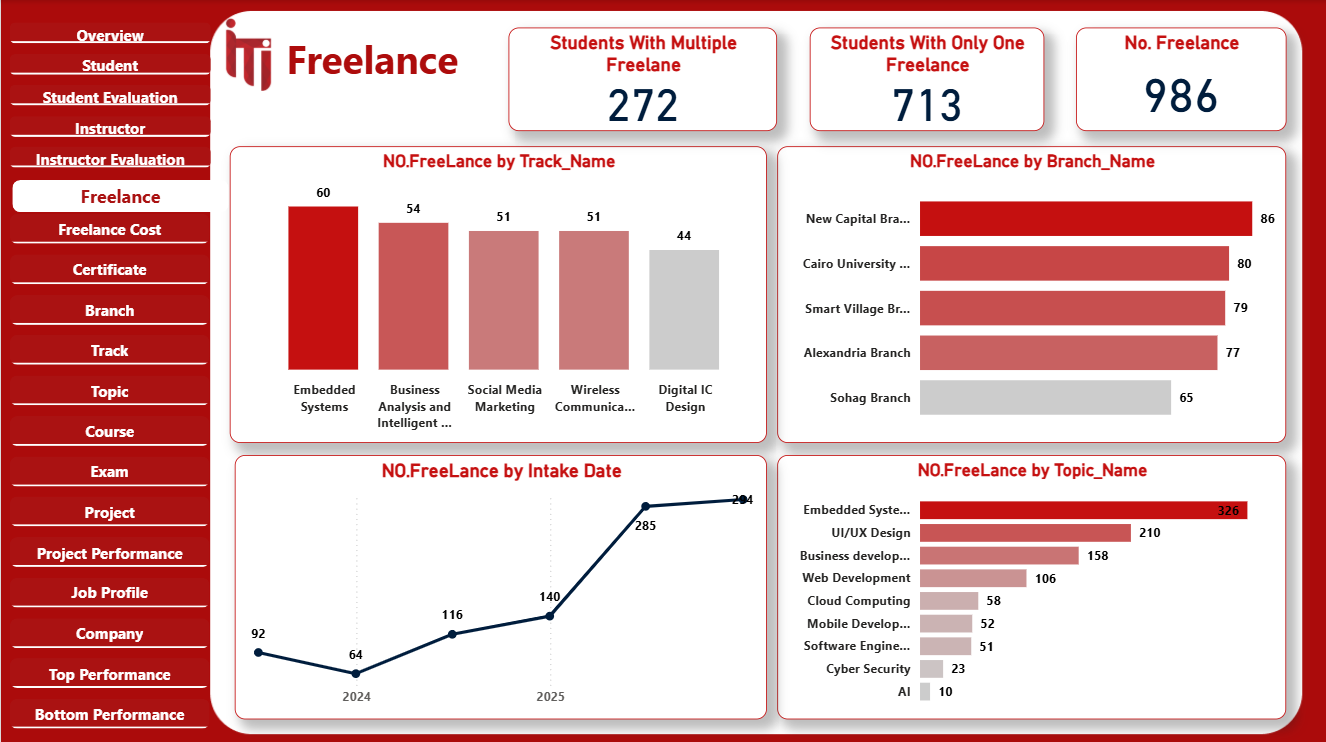

What the dashboard file says about the page in this screenshot:
{"tool":"powerbi","page":{"name":"Freelance","canvas":[1280,720],"ordinal":5},"visuals":[{"type":"clusteredBarChart","fields":{"Category":["vw_Dim_Branch.Branch_Name"],"Y":["Measures_.NO.FreeLance"]},"box":[749.2,141.3,491.3,286.8],"z":0},{"type":"clusteredColumnChart","fields":{"Y":["Measures_.NO.FreeLance"],"Category":["vw_Dim_Track.Track_Name"]},"box":[220.9,141.3,518.7,286.8],"z":1000},{"type":"barChart","fields":{"Category":["vw_Dim_Topic.Topic_Name"],"Y":["Measures_.NO.FreeLance"]},"box":[749.2,439.1,491.3,255.2],"z":2000},{"type":"card","title":"No. Freelance","fields":{"Values":["Measures_.NO.FreeLance"]},"box":[1037.4,26.1,203.1,100.2],"z":3000},{"type":"card","title":"Students With Multiple Freelane","fields":{"Values":["Measures_.Students with Multiple freelance"]},"box":[489.9,26.1,259.3,100.2],"z":4000},{"type":"card","title":"Students With Only One Freelance","fields":{"Values":["Measures_.Students with Only one freelance"]},"box":[780.1,26.1,226.4,100.2],"z":5000},{"type":"lineChart","title":"NO.FreeLance by Intake Date","fields":{"Y":["Measures_.NO.FreeLance"],"Category":["Fact_Student_Performance.intake_end_date.Variation.Date Hierarchy.Year"]},"box":[225.2,438.8,513.8,255.5],"z":6000},{"type":"textbox","box":[270.3,26.1,249.7,67.2],"z":7000},{"type":"pageNavigator","box":[8.2,22,194.9,141.3],"z":8000},{"type":"pageNavigator","box":[11,174.3,209.9,31.6],"z":9000},{"type":"pageNavigator","box":[8.2,205.8,193.5,499.5],"z":10000},{"type":"image","box":[196.2,4.1,86.4,89.2],"z":11000}]}

Visuals, with their boxes on the page's 1280x720 design canvas (x1, y1, x2, y2). These are canvas units, not pixel positions in the 1326x742 screenshot, which may show the page scaled, cropped or inside an application window:
clusteredBarChart - vw_Dim_Branch.Branch_Name x Measures_.NO.FreeLance: [749,141,1240,428]
clusteredColumnChart - Measures_.NO.FreeLance x vw_Dim_Track.Track_Name: [221,141,740,428]
barChart - vw_Dim_Topic.Topic_Name x Measures_.NO.FreeLance: [749,439,1240,694]
"No. Freelance" card: [1037,26,1240,126]
"Students With Multiple Freelane" card: [490,26,749,126]
"Students With Only One Freelance" card: [780,26,1006,126]
"NO.FreeLance by Intake Date" lineChart: [225,439,739,694]
textbox: [270,26,520,93]
pageNavigator: [8,22,203,163]
pageNavigator: [11,174,221,206]
pageNavigator: [8,206,202,705]
image: [196,4,283,93]
